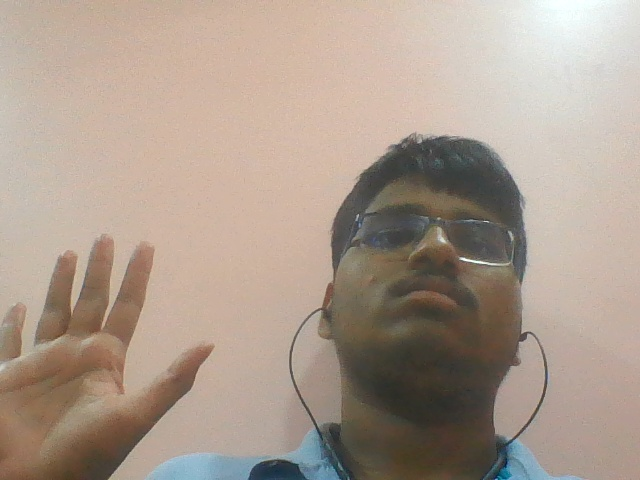Hello: (3, 235, 227, 480)
